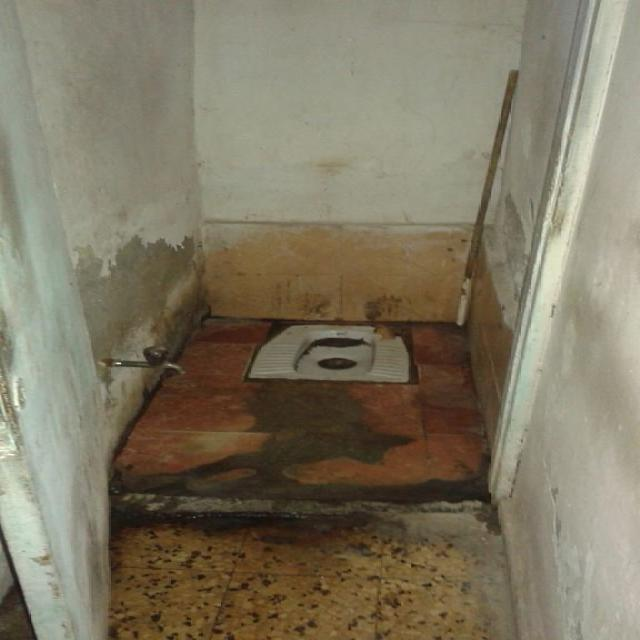dirty_floor: (2, 1, 635, 638), (109, 314, 491, 506), (107, 506, 510, 638)
